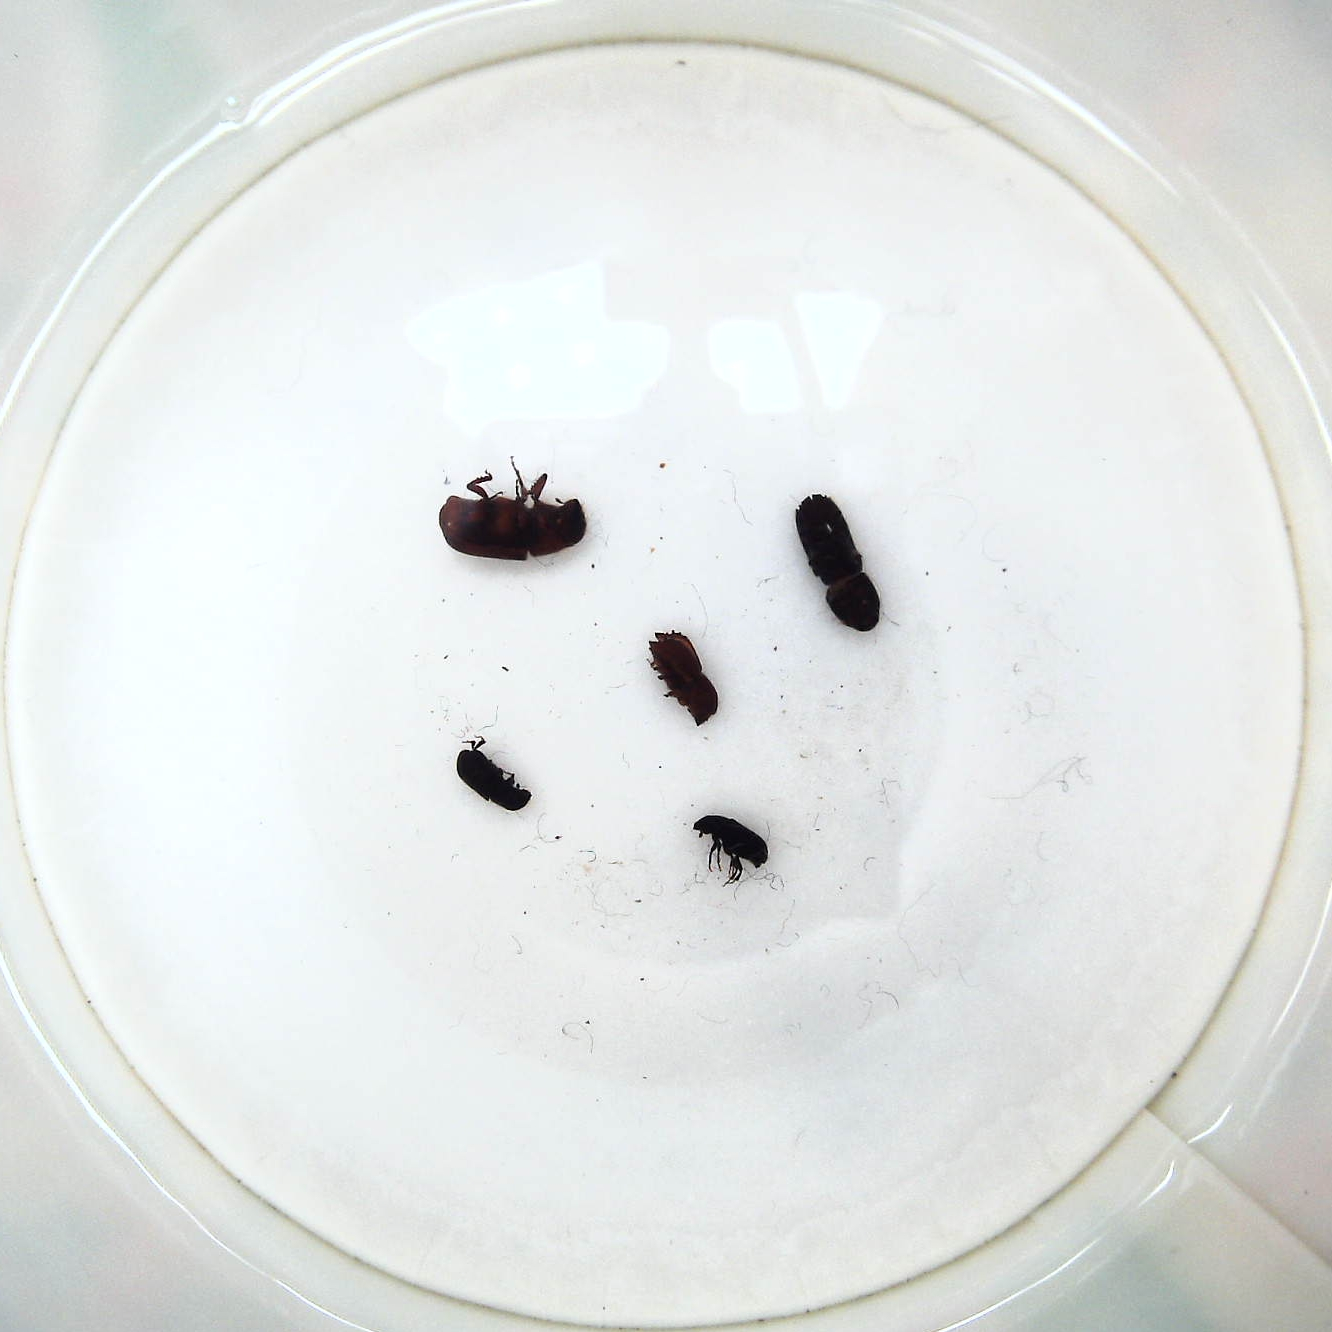Boerner: (789, 492, 884, 636)
Leconte: (433, 462, 592, 568)
armandi: (453, 740, 533, 814)
coleoptera: (696, 811, 777, 886)
linnaeus: (640, 625, 723, 728)
